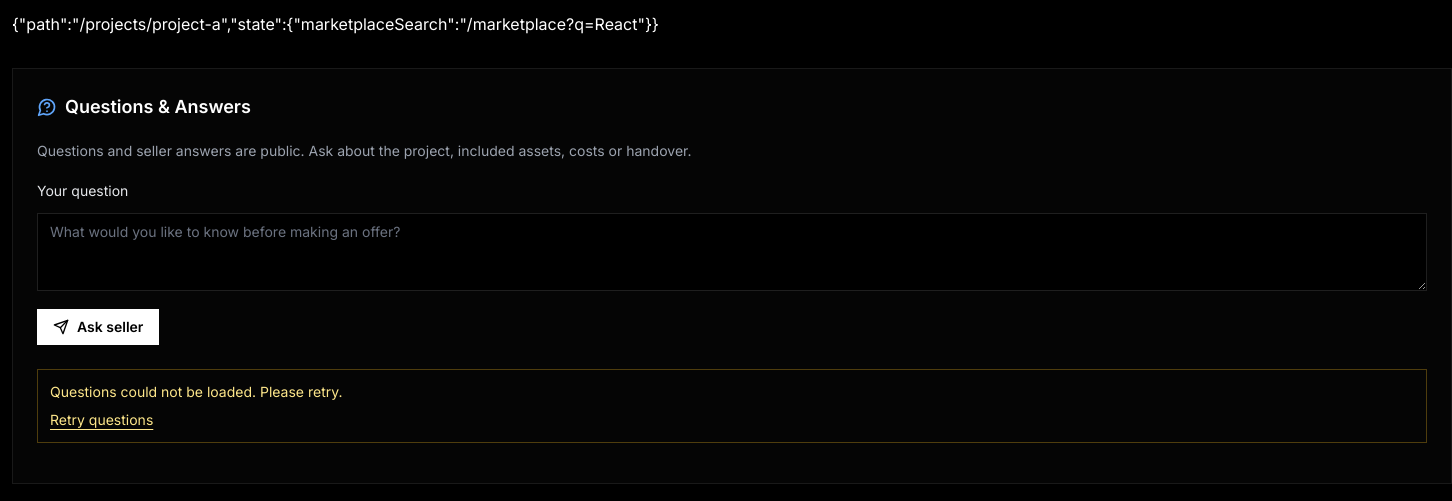
Test case: questions outage is not shown as an empty list and Retry recovers
This screenshot has width=1452, height=501.
Expected: the message shows "Questions could not be loaded", left=50, top=383, right=342, bottom=400
Click the button "Retry questions": (102, 420) left=50, top=410, right=153, bottom=430
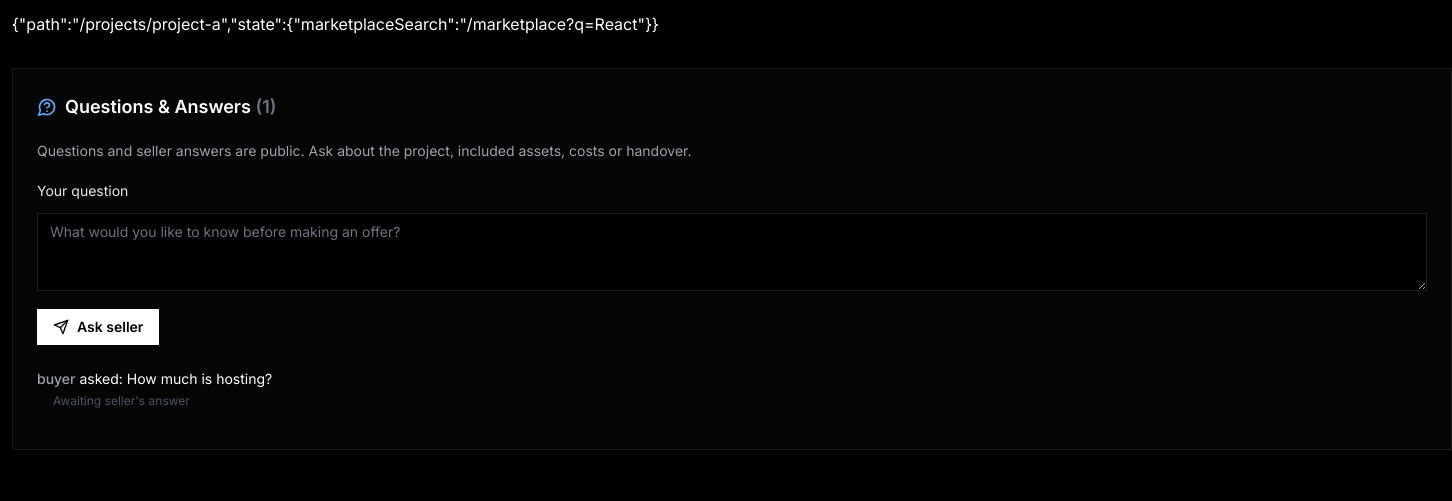
Expected: the text "buyer asked: How much is hosting?" is shown, left=37, top=369, right=272, bottom=389
Expected: the message "Questions could not be loaded. Please retry. Retry questions" is gone
